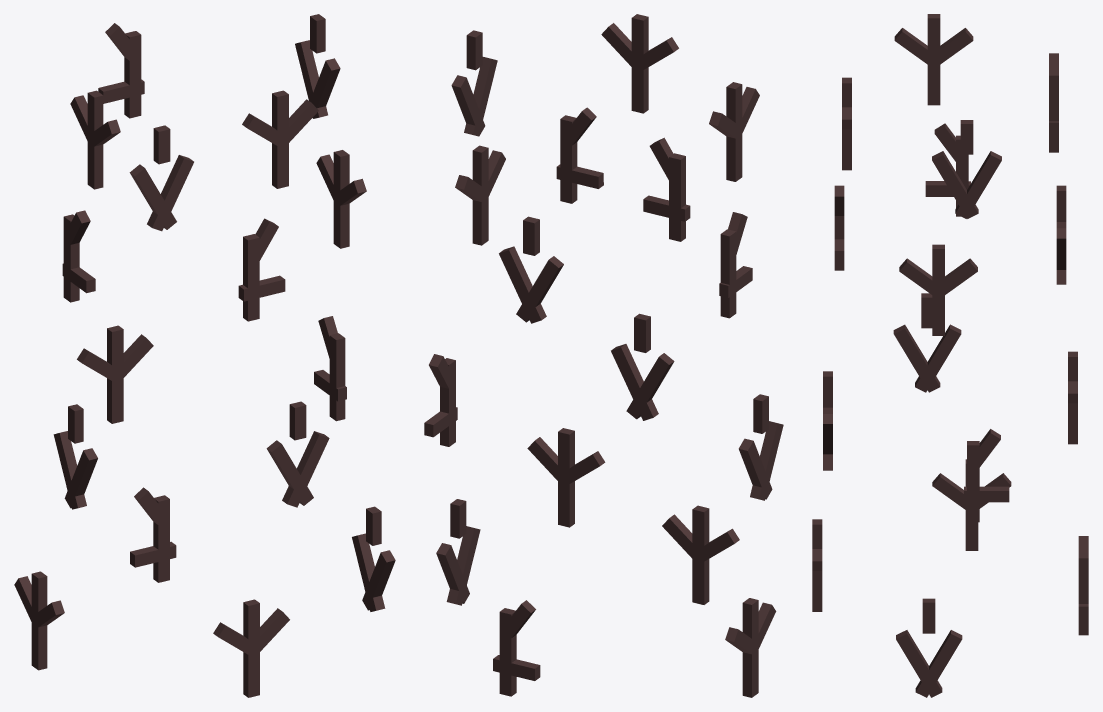
File: obelisk_twisted_runes.obj
3 views of the same model, side by side, from view 1: azimuth 30°, elevation 25°; view 2: azimuth 150°, elevation 25°; view 3: azimuth 270°, elevation 25° (orthographic). The views are drawn at different scales.
Parts seen in each view (by area): view 1: obelisk_twisted_runes_0, obelisk_twisted_runes_9, obelisk_twisted_runes_27, obelisk_twisted_runes_36, obelisk_twisted_runes_45, obelisk_twisted_runes_18, obelisk_twisted_runes_6, obelisk_twisted_runes_15, obelisk_twisted_runes_33, obelisk_twisted_runes_3, obelisk_twisted_runes_24, obelisk_twisted_runes_31 (+21 smaller); view 2: obelisk_twisted_runes_9, obelisk_twisted_runes_0, obelisk_twisted_runes_27, obelisk_twisted_runes_18, obelisk_twisted_runes_36, obelisk_twisted_runes_45, obelisk_twisted_runes_42, obelisk_twisted_runes_33, obelisk_twisted_runes_3, obelisk_twisted_runes_6, obelisk_twisted_runes_31, obelisk_twisted_runes_24 (+26 smaller); view 3: obelisk_twisted_runes_18, obelisk_twisted_runes_45, obelisk_twisted_runes_39, obelisk_twisted_runes_12, obelisk_twisted_runes_21, obelisk_twisted_runes_15, obelisk_twisted_runes_40, obelisk_twisted_runes_22, obelisk_twisted_runes_13, obelisk_twisted_runes_0, obelisk_twisted_runes_24, obelisk_twisted_runes_9 (+15 smaller).
Boxes of the visible parts, <box> form: obelisk_twisted_runes_0: <box>243,599,259,697</box>; obelisk_twisted_runes_9: <box>272,90,288,188</box>; obelisk_twisted_runes_27: <box>107,325,123,423</box>; obelisk_twisted_runes_36: <box>31,571,47,670</box>; obelisk_twisted_runes_45: <box>87,90,103,189</box>; obelisk_twisted_runes_18: <box>333,150,349,248</box>; obelisk_twisted_runes_6: <box>243,234,259,321</box>; obelisk_twisted_runes_15: <box>329,333,345,421</box>; obelisk_twisted_runes_33: <box>124,31,141,118</box>; obelisk_twisted_runes_3: <box>282,431,329,507</box>; obelisk_twisted_runes_24: <box>153,495,169,582</box>; obelisk_twisted_runes_31: <box>147,155,193,231</box>; obelisk_twisted_runes_9: <box>631,14,648,113</box>; obelisk_twisted_runes_0: <box>692,505,709,604</box>; obelisk_twisted_runes_27: <box>558,428,574,527</box>; obelisk_twisted_runes_18: <box>472,145,488,245</box>; obelisk_twisted_runes_36: <box>742,598,758,697</box>; obelisk_twisted_runes_45: <box>726,82,742,181</box>; obelisk_twisted_runes_42: <box>720,229,736,318</box>; obelisk_twisted_runes_33: <box>560,115,577,203</box>; obelisk_twisted_runes_3: <box>611,344,658,420</box>; obelisk_twisted_runes_6: <box>669,153,685,241</box>; obelisk_twisted_runes_31: <box>499,246,546,323</box>; obelisk_twisted_runes_24: <box>499,608,516,696</box>; obelisk_twisted_runes_18: <box>932,244,944,335</box>; obelisk_twisted_runes_45: <box>927,14,940,105</box>; obelisk_twisted_runes_39: <box>893,324,940,392</box>; obelisk_twisted_runes_12: <box>915,630,962,697</box>; obelisk_twisted_runes_21: <box>955,151,1001,218</box>; obelisk_twisted_runes_15: <box>967,441,979,522</box>; obelisk_twisted_runes_40: <box>915,324,961,392</box>; obelisk_twisted_runes_22: <box>932,151,978,218</box>; obelisk_twisted_runes_13: <box>896,630,942,697</box>; obelisk_twisted_runes_0: <box>812,519,822,611</box>; obelisk_twisted_runes_24: <box>1078,553,1088,635</box>; obelisk_twisted_runes_9: <box>842,77,851,170</box>.
Size of the model in its own units: 1.24 by 2.17 by 0.9758.
